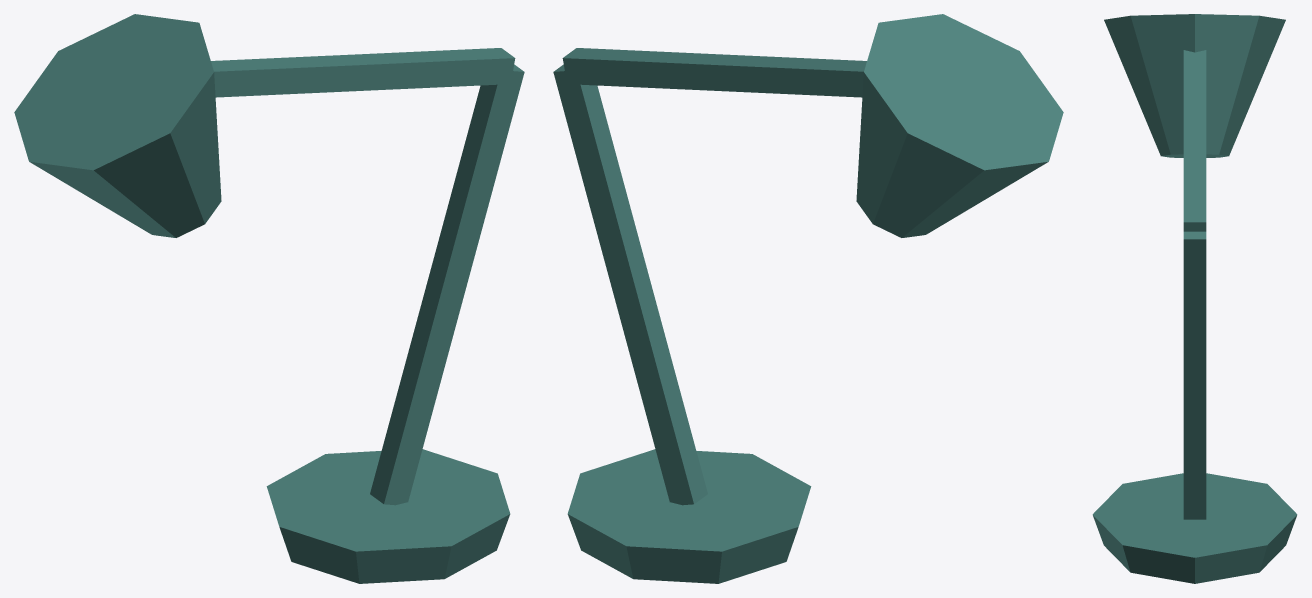
The model's file is table-lamp-09.glb.
3 renders of one model, left to right at view 1: azimuth 30°, elevation 25°; view 2: azimuth 150°, elevation 25°; view 3: azimuth 270°, elevation 25°, orthographic. The views are drawn at different scales.
Parts seen in each view (by area): view 1: table_lamp_09; view 2: table_lamp_09; view 3: table_lamp_09.
Boxes of the visible parts, x1,y1,x2,y2 form: table_lamp_09: [14, 14, 524, 583]; table_lamp_09: [553, 14, 1063, 583]; table_lamp_09: [1092, 14, 1297, 583].
Size of the model in its own units: 0.4026 by 0.4422 by 0.18.
